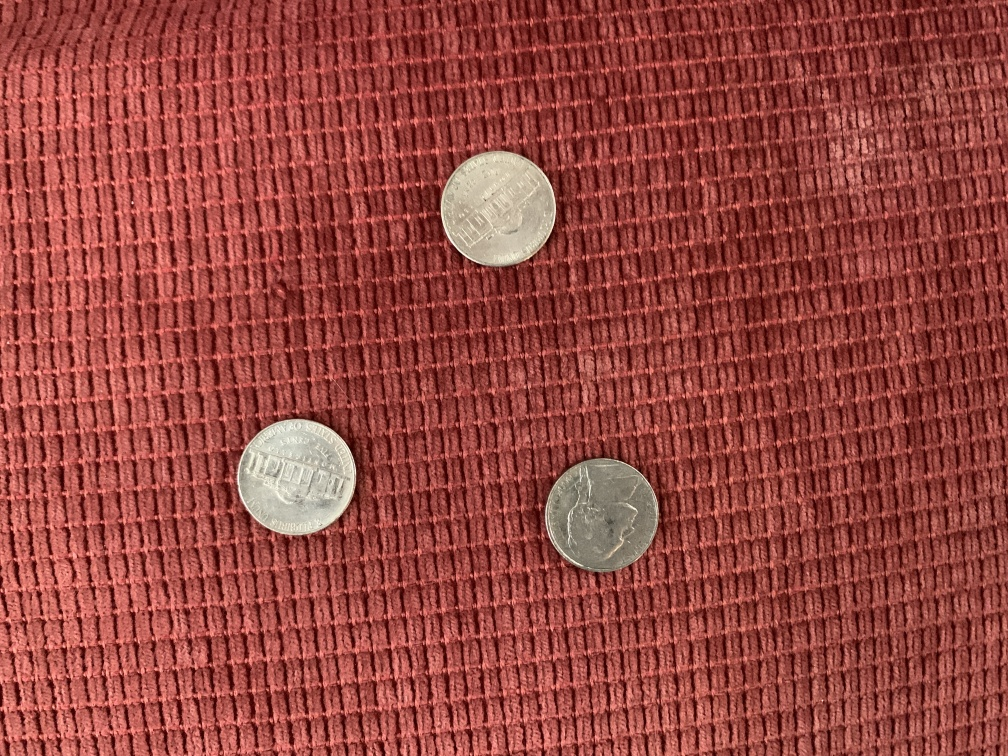nickel: (233, 416, 363, 544), (435, 149, 565, 271), (539, 455, 663, 576)
